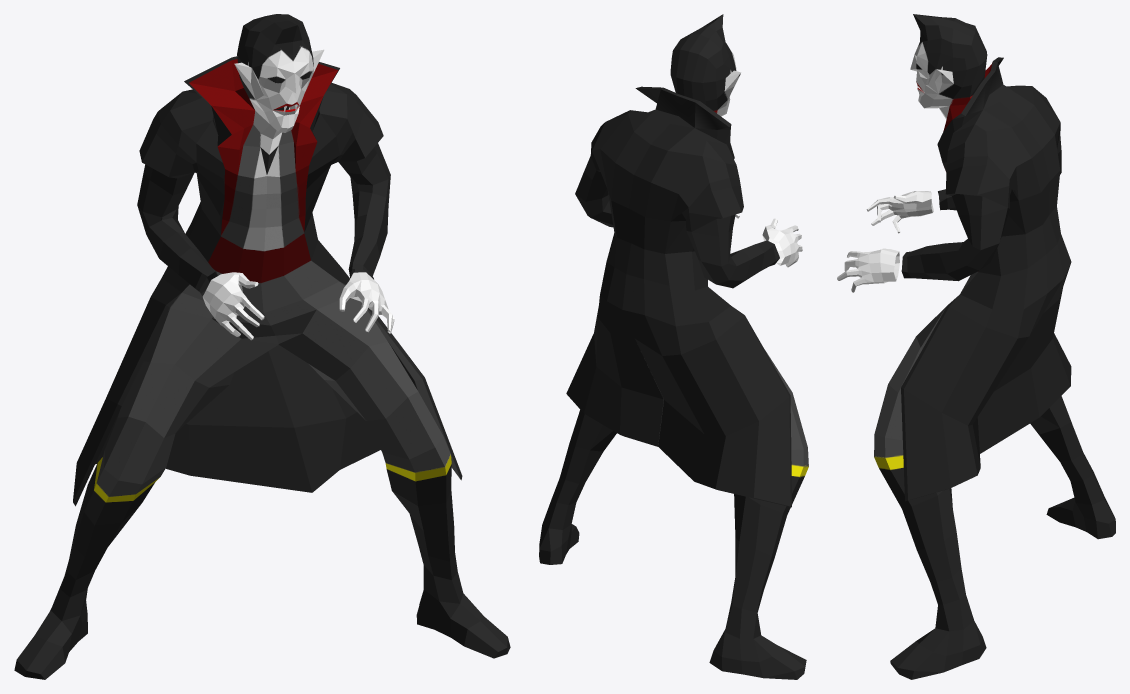
File: VampireAttack(124).obj
3 renders of one model, left to right at view 1: azimuth 30°, elevation 25°; view 2: azimuth 150°, elevation 25°; view 3: azimuth 270°, elevation 25°, orthographic. The views are drawn at different scales.
Parts seen in each view (by area): view 1: Plane002; view 2: Plane002; view 3: Plane002.
Part boxes in pixels (bbox=[...]): Plane002: bbox=[14, 14, 510, 679]; Plane002: bbox=[539, 14, 808, 679]; Plane002: bbox=[837, 14, 1115, 679].
Bounding box in the file's own units: 189 × 306 × 134.
